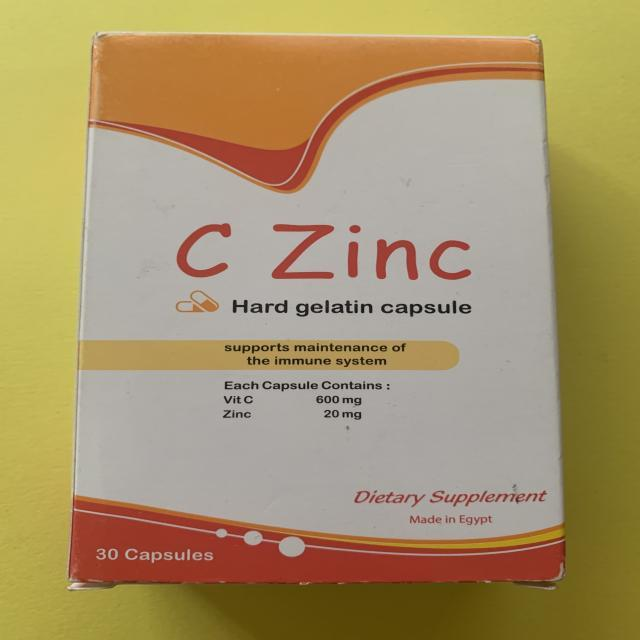Medicine Name: (153, 209, 482, 293)
